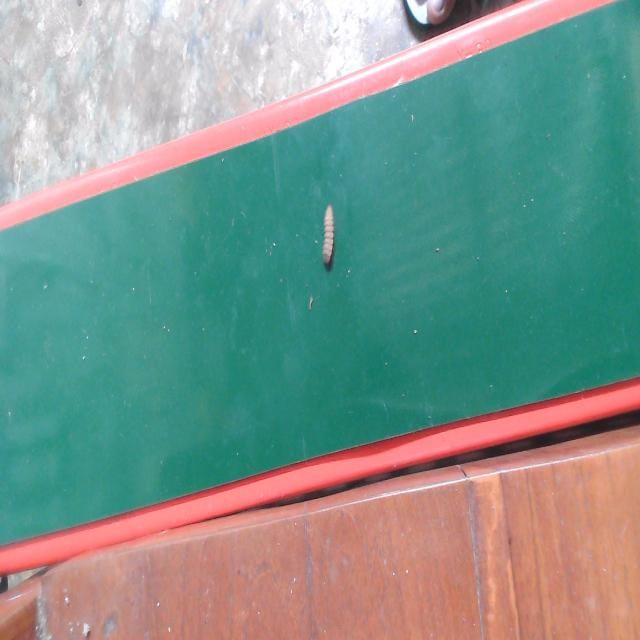Maggot: (317, 203, 342, 275)
